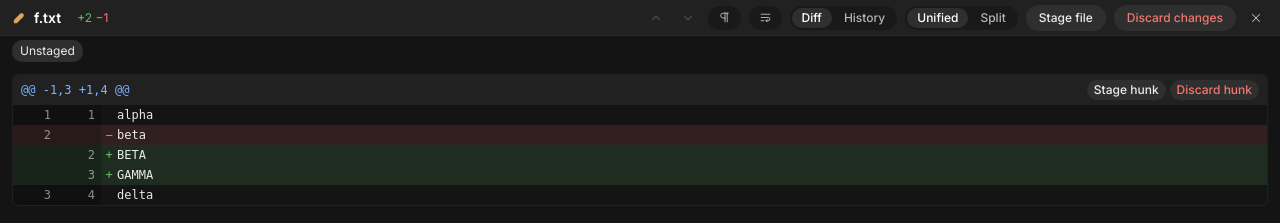
it: DiffView line selection (GC-121) › names the count while lines are picked and goes back to the hunk when they are dropped
Click the row with class "line" showing "2 + BETA" at (640, 155), box [13, 145, 1267, 165]
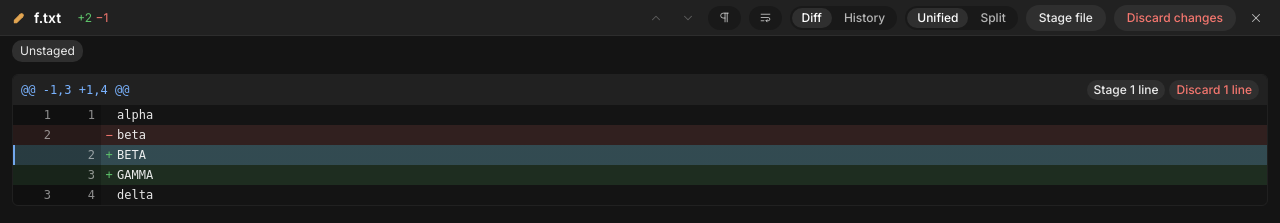
Expected: the button "Stage 1 line" is shown, [1087, 80, 1166, 100]
Click the row with class "line" showing "3 + GAMMA" at (640, 175), box [13, 165, 1267, 185]
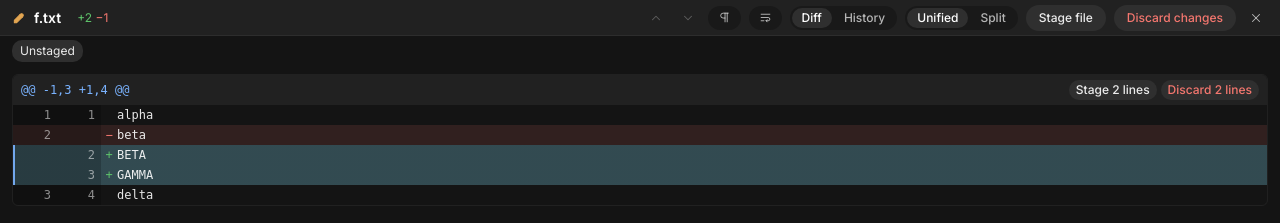
Expected: the button "Stage 2 lines" is shown, [1069, 80, 1157, 100]
Click the row with class "line" showing "3 + GAMMA" at (640, 175), box [13, 165, 1267, 185]
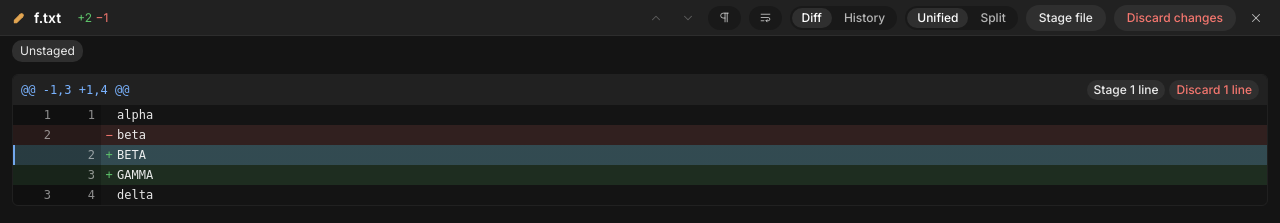
Expected: the button "Stage 1 line" is shown, [1087, 80, 1166, 100]
Click the row with class "line" showing "2 + BETA" at (640, 155), box [13, 145, 1267, 165]
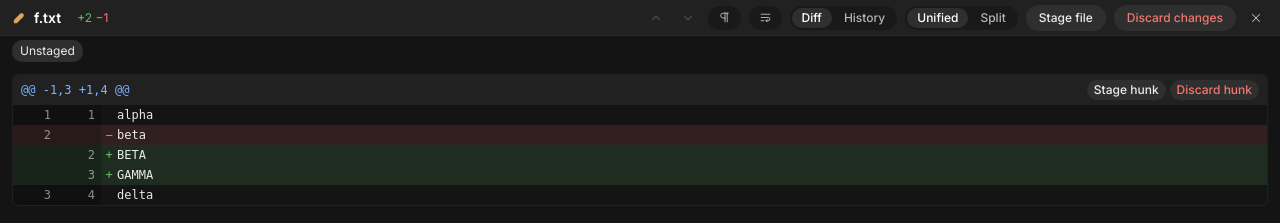
Expected: the button "Stage hunk" is shown, [1087, 80, 1166, 100]
